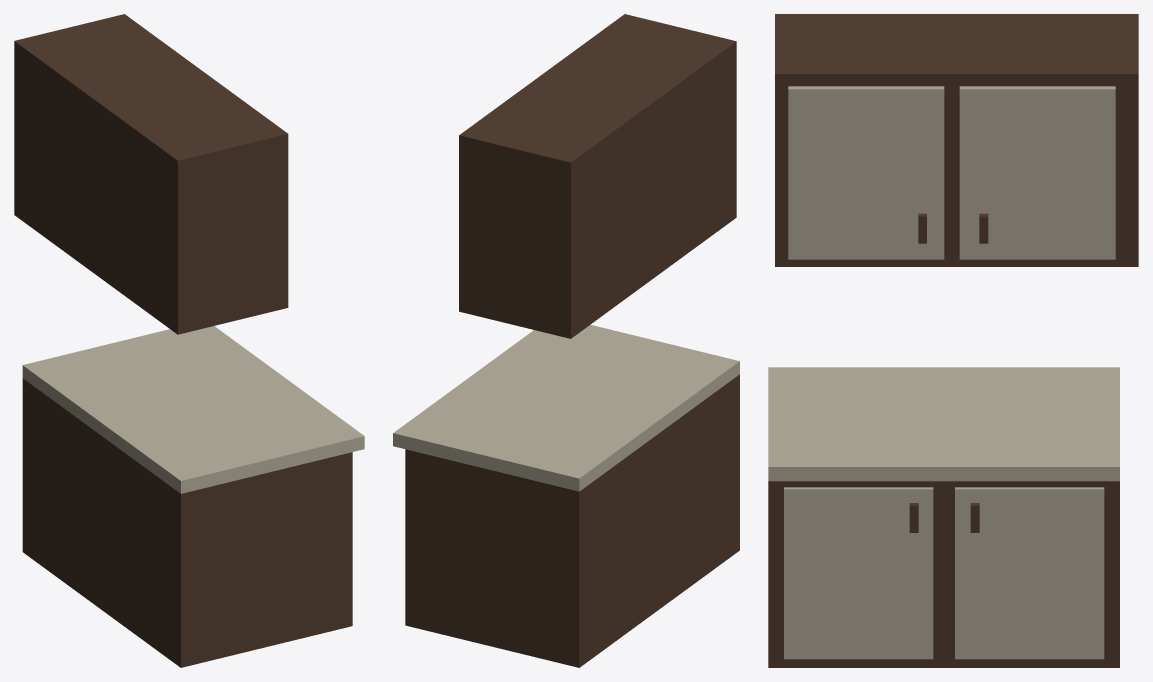
The model's file is s_Kitchen.001.fbx.
3 renders of one model, left to right at view 1: azimuth 30°, elevation 25°; view 2: azimuth 150°, elevation 25°; view 3: azimuth 270°, elevation 25°, orthographic. The views are drawn at different scales.
Parts seen in each view (by area): view 1: s_Kitchen.001; view 2: s_Kitchen.001; view 3: s_Kitchen.001.
Part boxes in pixels (left/top/right/bottom): s_Kitchen.001: left=14, top=14, right=364, bottom=667; s_Kitchen.001: left=393, top=14, right=739, bottom=667; s_Kitchen.001: left=768, top=14, right=1138, bottom=667.
Size of the model in its own units: 101 by 266 by 159.
